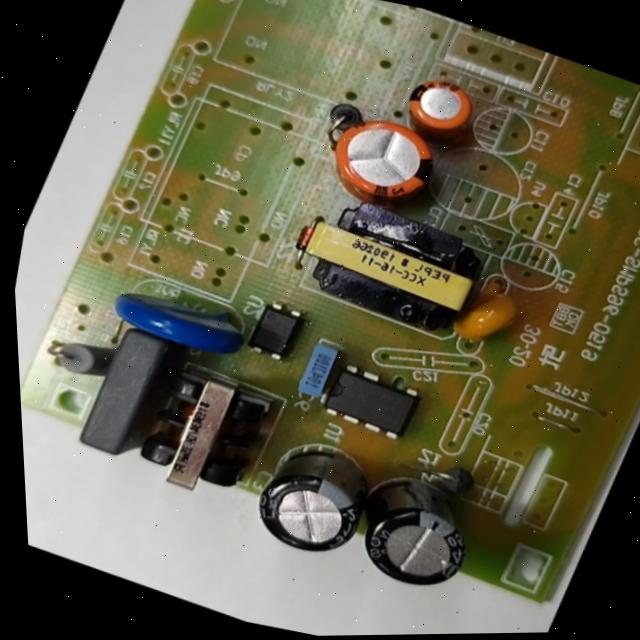Cap1: (301, 97, 463, 231)
Cap2: (384, 55, 499, 159)
Cap3: (222, 410, 414, 580)
Cap4: (317, 445, 512, 613)
MOSFET: (299, 347, 443, 454)
Mov: (93, 259, 276, 380)
Resistor: (33, 320, 126, 393)
Transformer: (263, 168, 516, 354), (105, 345, 299, 522)
